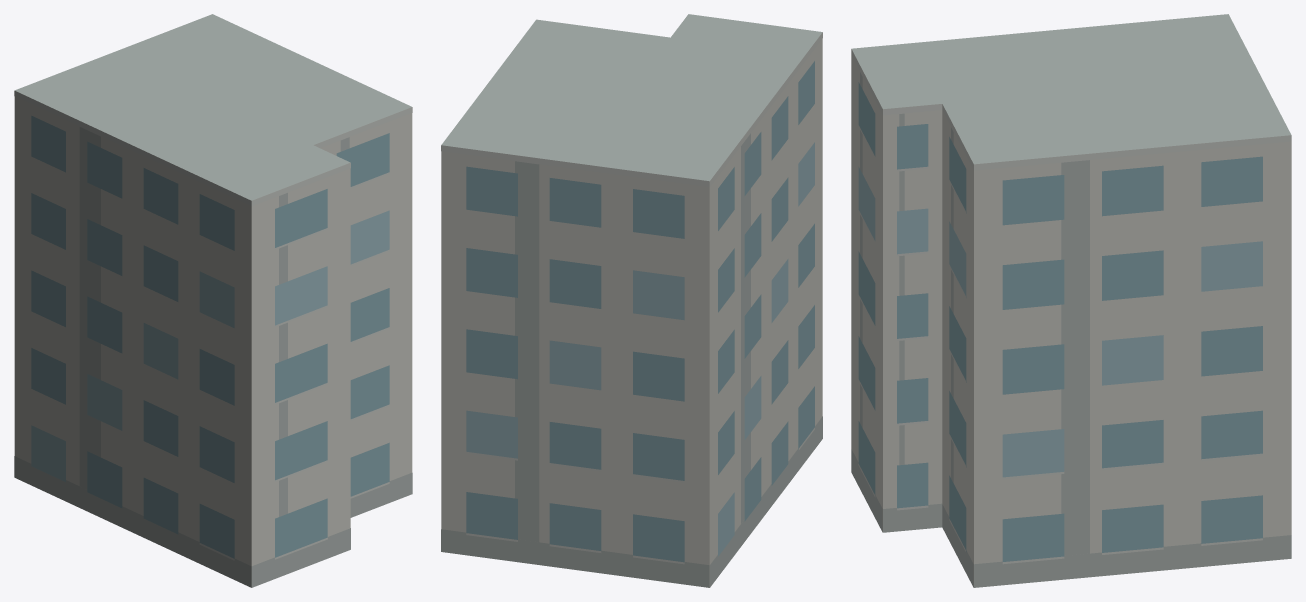
File: survey-upis-32800386.glb
3 views of the same model, side by side, from view 1: azimuth 30°, elevation 25°; view 2: azimuth 150°, elevation 25°; view 3: azimuth 270°, elevation 25° (orthographic). The views are drawn at different scales.
Visible parts, largest first — view 1: survey-upis-32800386.tmp; view 2: survey-upis-32800386.tmp; view 3: survey-upis-32800386.tmp.
Boxes of the visible parts, <box> form: survey-upis-32800386.tmp: <box>14,14,412,587</box>; survey-upis-32800386.tmp: <box>441,14,822,587</box>; survey-upis-32800386.tmp: <box>851,14,1291,587</box>.
Bounding box in the file's own units: 12.3 × 16.15 × 15.22.
